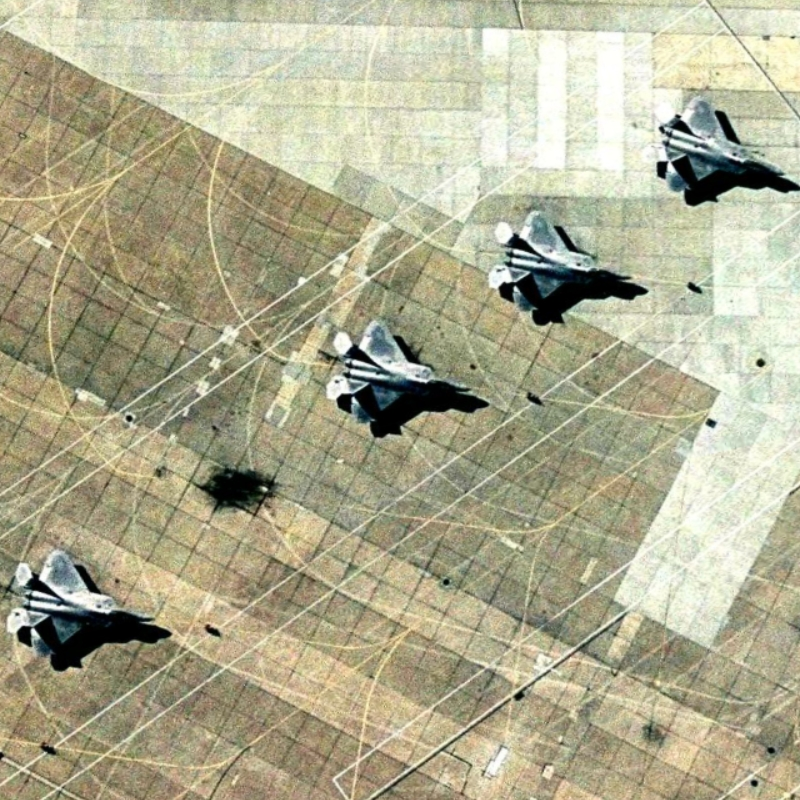A15: (4, 542, 166, 664), (317, 315, 477, 435), (477, 202, 636, 320), (643, 93, 791, 206)
